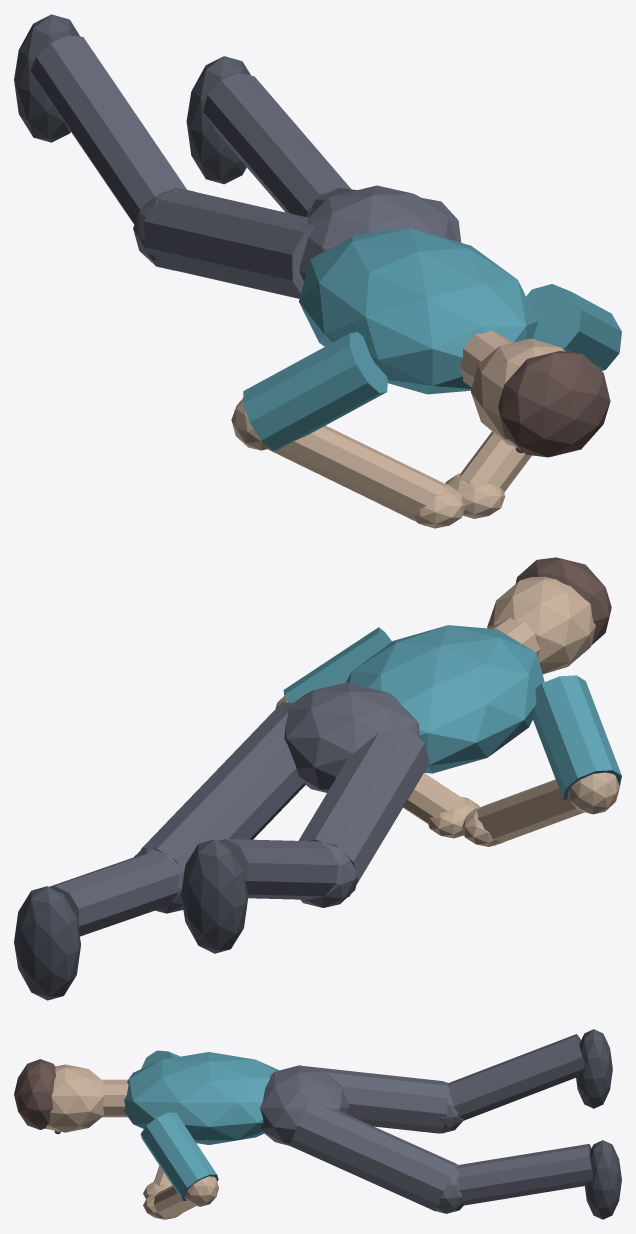
The picture shows the model from 3 angles, top to bottom: view 1: azimuth 30°, elevation 25°; view 2: azimuth 150°, elevation 25°; view 3: azimuth 270°, elevation 25°; orthographic projection. The views are drawn at different scales.
Parts seen in each view (by area): view 1: world; view 2: world; view 3: world.
Boxes of the visible parts, box(x1,y1,x2,y2) form: world: box(14, 14, 621, 528); world: box(14, 557, 621, 1000); world: box(14, 1029, 621, 1219).
Bounding box in the file's own units: 0.93 × 0.6213 × 2.07.
